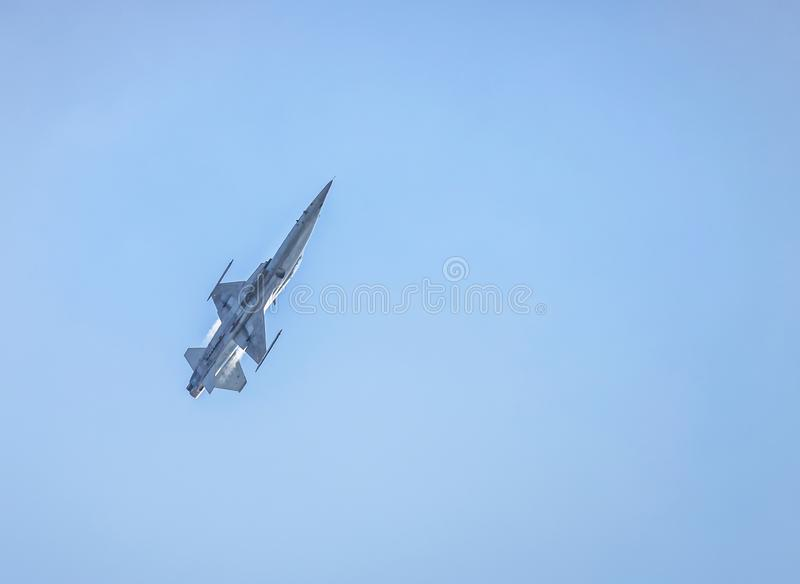plane: (184, 173, 336, 398)
